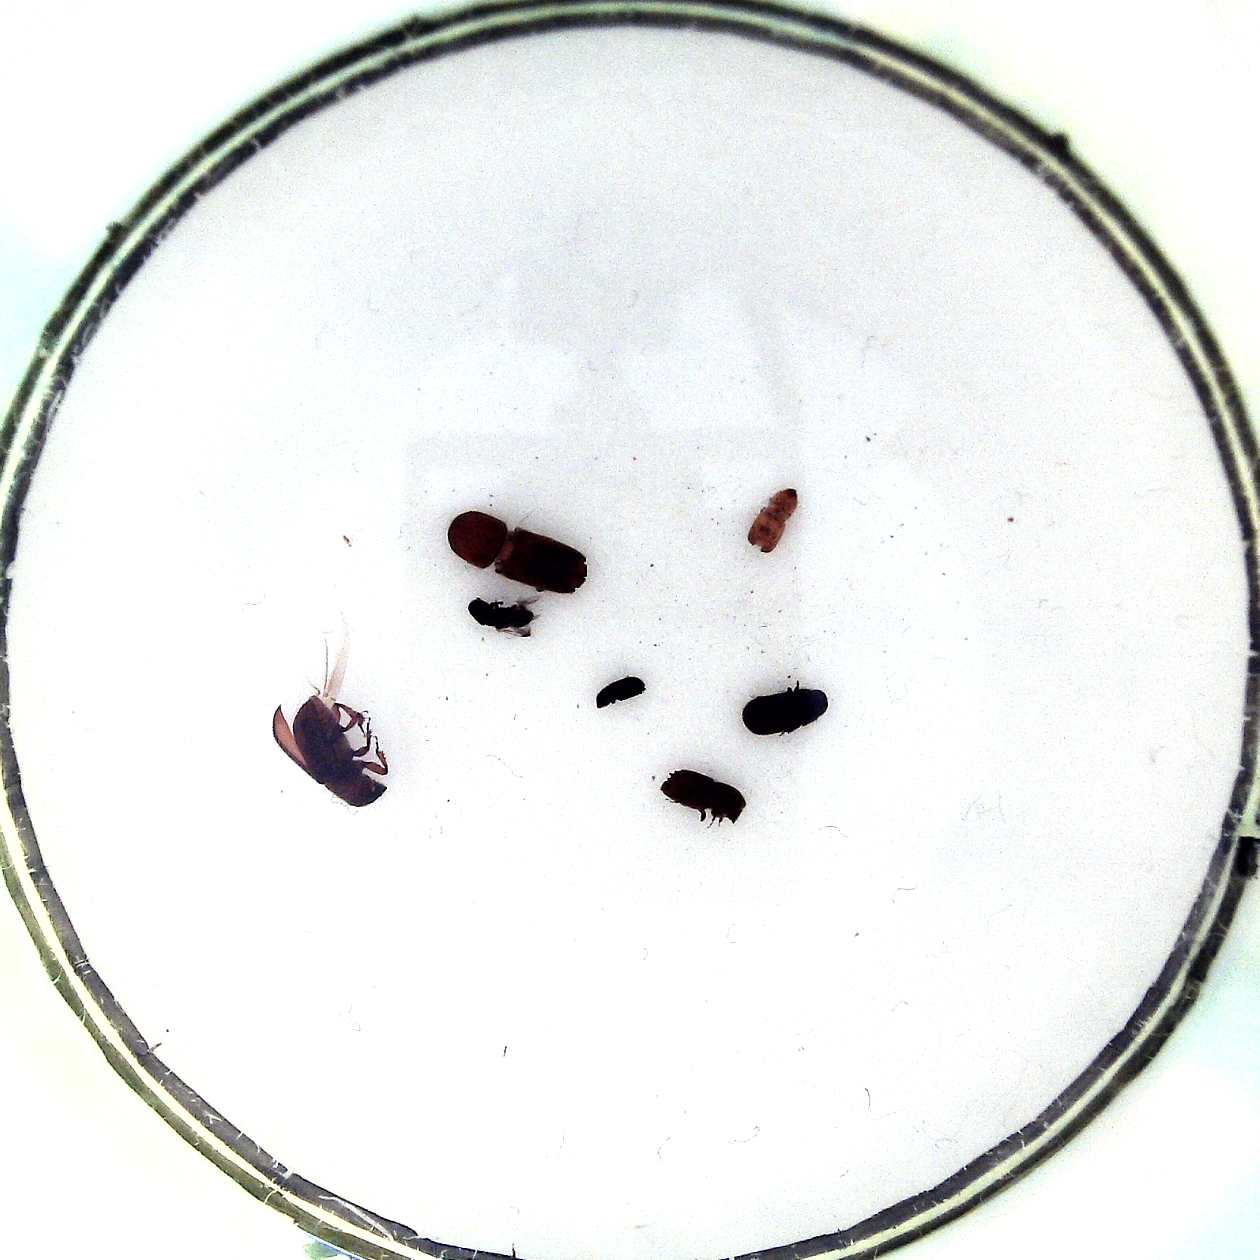Boerner: (441, 505, 592, 598)
Leconte: (267, 615, 400, 812)
Linnaeus: (658, 759, 751, 830)
acuminatus: (744, 480, 800, 556)
armandi: (736, 675, 831, 741)
coleoptera: (468, 590, 549, 642), (588, 672, 648, 713)
